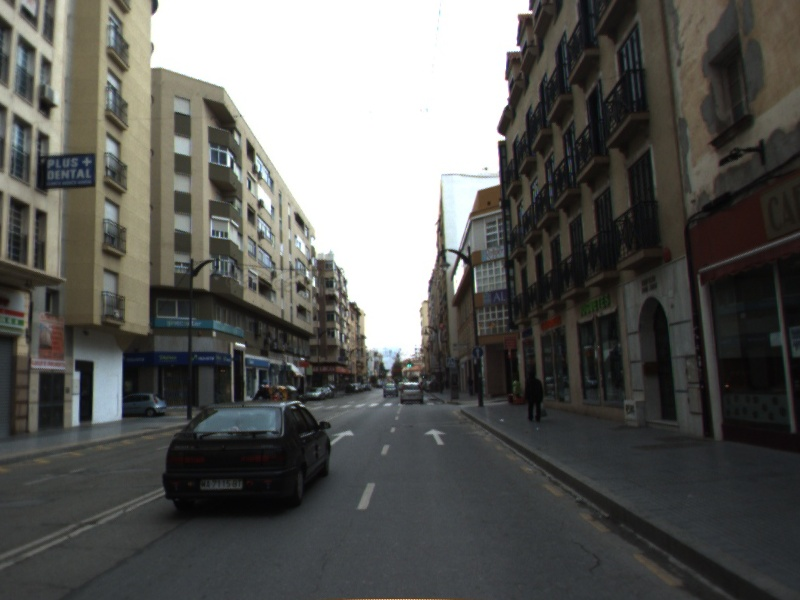STRAIGHT: (327, 427, 356, 446), (422, 427, 448, 447)
